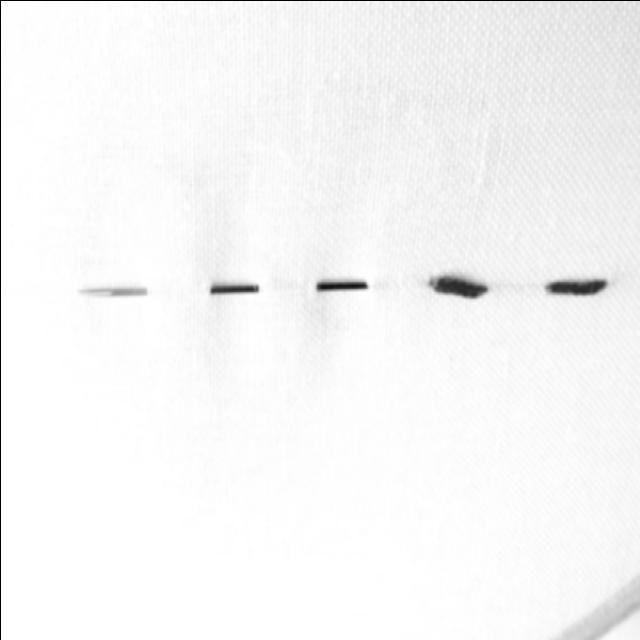stitch: (428, 277, 486, 297), (544, 279, 606, 296), (78, 286, 146, 296), (211, 284, 259, 294), (315, 280, 368, 288)
